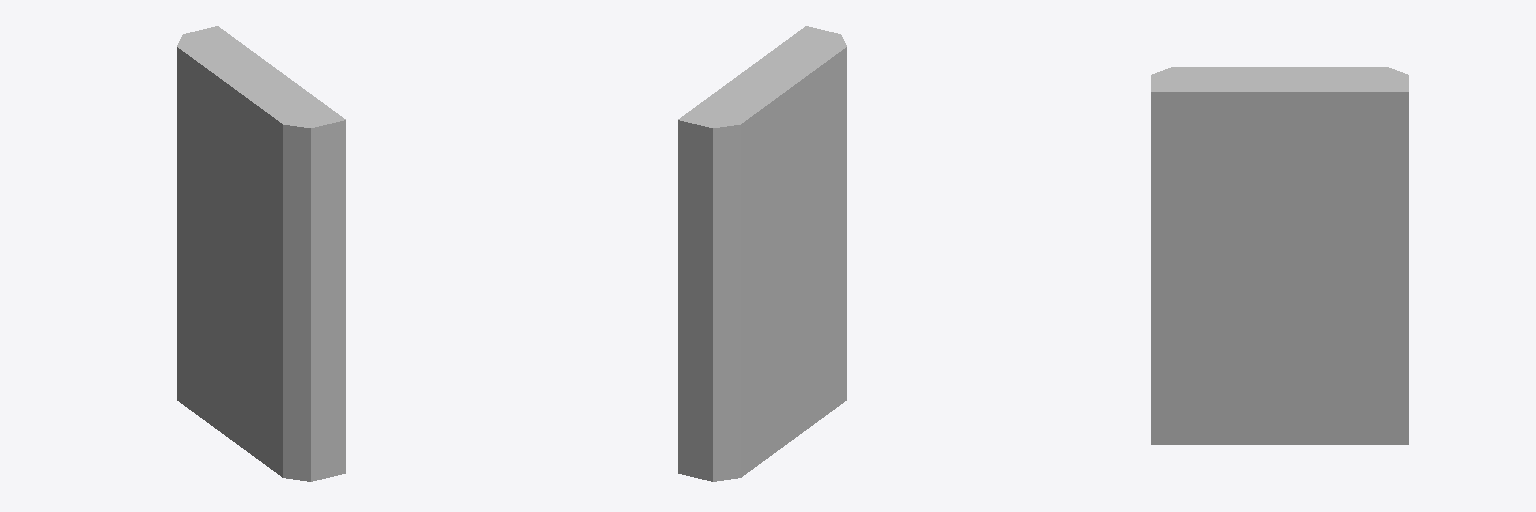
File: Speaker.obj
3 renders of one model, left to right at view 1: azimuth 30°, elevation 25°; view 2: azimuth 150°, elevation 25°; view 3: azimuth 270°, elevation 25°, orthographic.
Parts seen in each view (by area): view 1: Speaker_Sphere.004; view 2: Speaker_Sphere.004; view 3: Speaker_Sphere.004.
Part boxes in pixels (x1,y1,x2,y2): Speaker_Sphere.004: (177,26,345,481); Speaker_Sphere.004: (678,26,846,481); Speaker_Sphere.004: (1151,67,1408,444).
Size of the model in its own units: 0.1119 by 0.7268 by 0.4788.